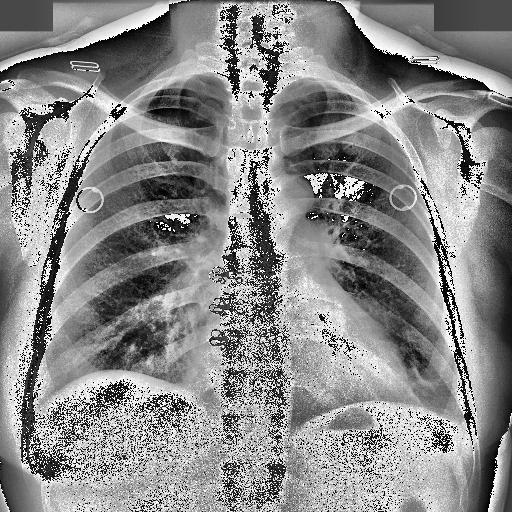0- Aortic enlargement: (252, 172, 318, 228), (272, 176, 312, 216)
13- Pulmonary fibrosis: (409, 356, 439, 392), (412, 361, 436, 388)
3- Cardiomegaly: (184, 334, 420, 429), (179, 327, 415, 405), (182, 340, 427, 412)
7- Lung Opacity: (340, 135, 364, 156)
9- Other lesion: (340, 135, 364, 156)
